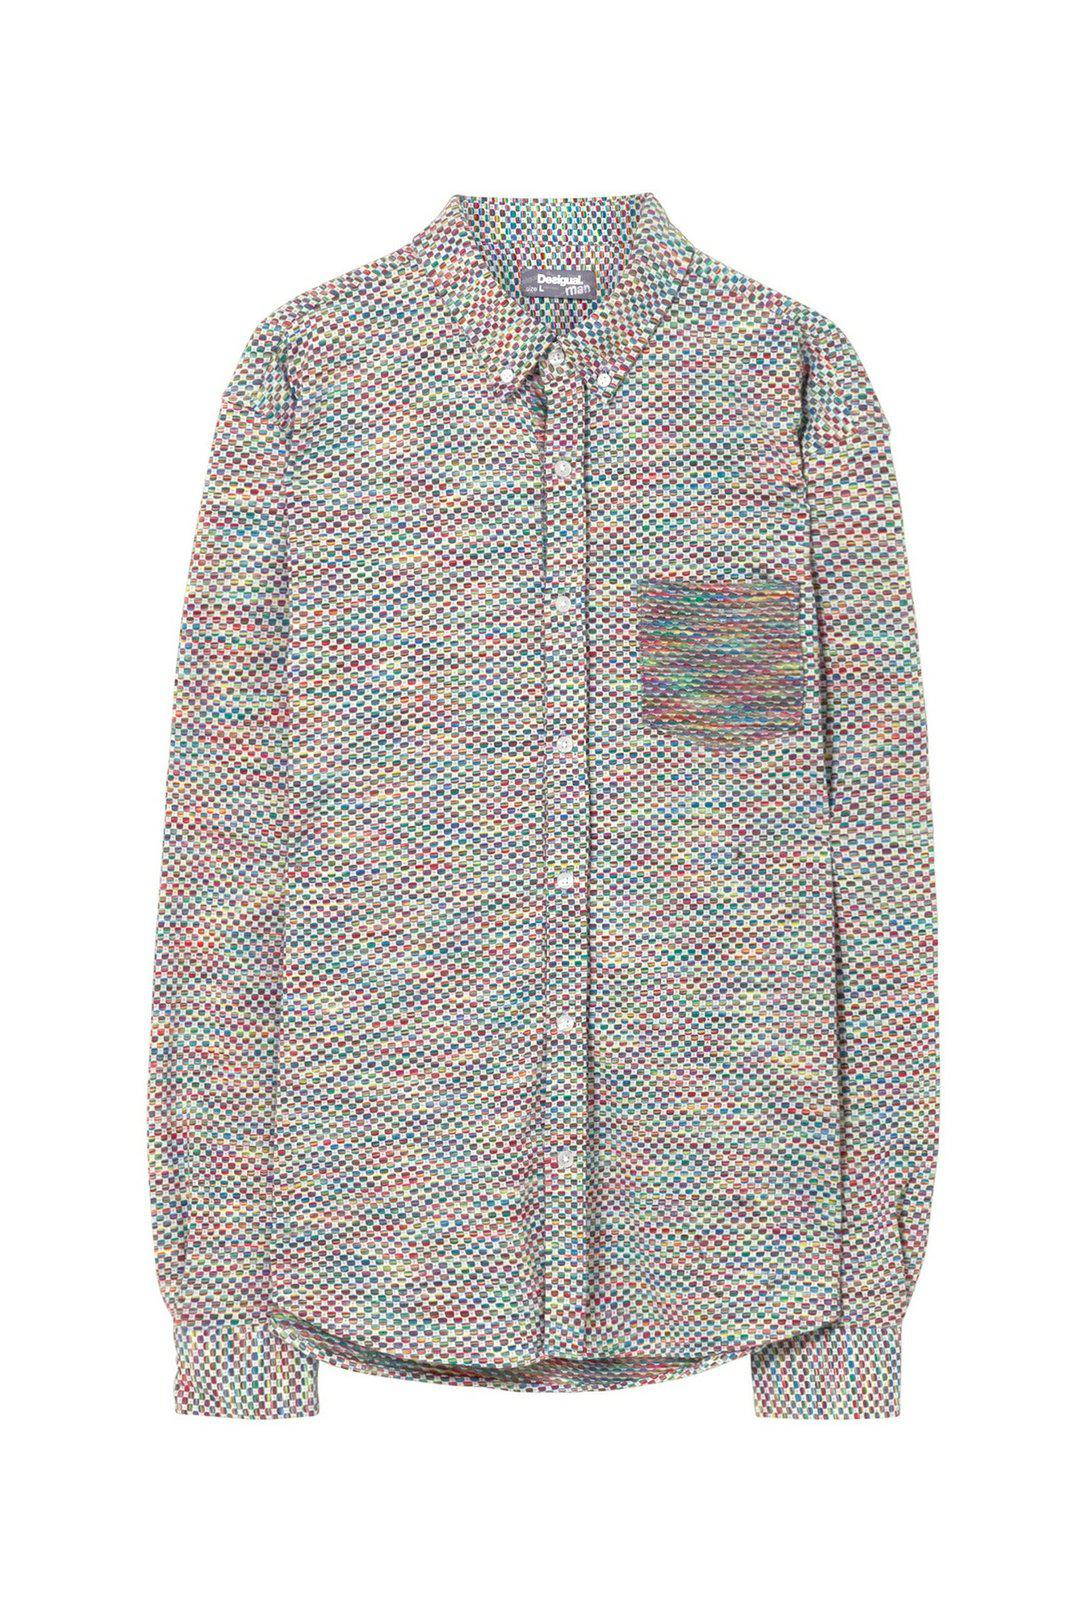teeshirt: (66, 190, 946, 1457)
